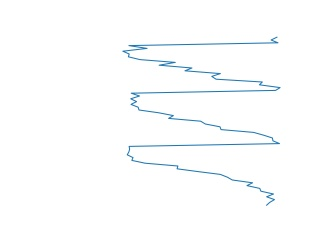distributaryMouthBar: (120, 34, 284, 207)
